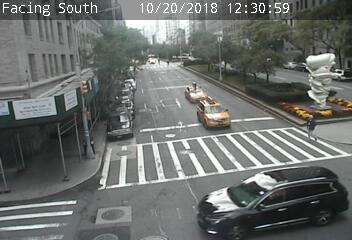car: (196, 100, 232, 129), (184, 86, 208, 101)
